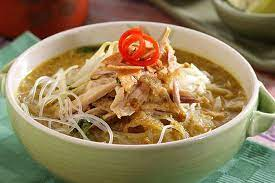soto: (6, 15, 256, 178)
